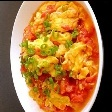fanqiechaojidan: (19, 0, 100, 112)
